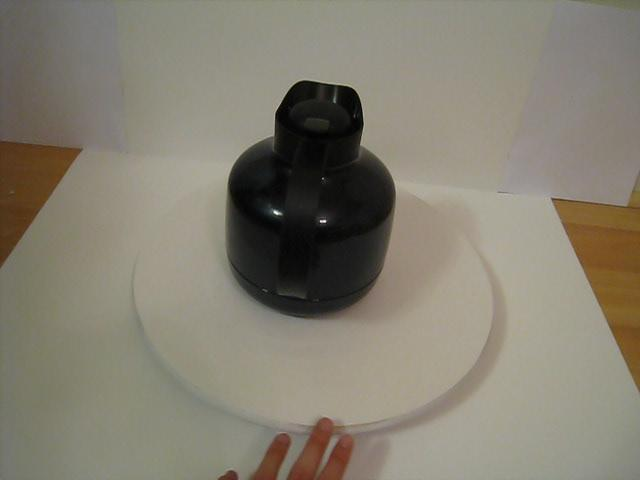pitcher: (229, 67, 399, 331)
